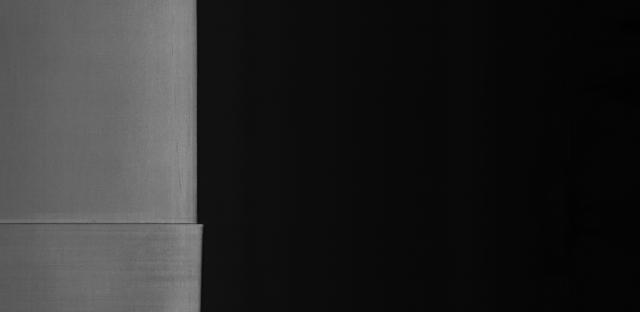welding_line: (0, 209, 218, 240)
